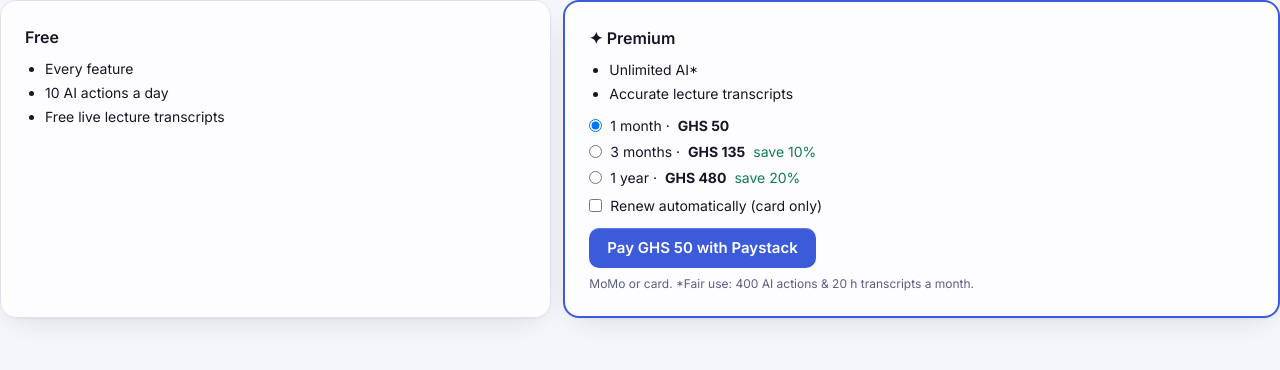
Test: PlanPicker › explains a checkout that could not start
This screenshot has width=1280, height=370.
What coordinates should you click on to do the following:
click the button "Pay GHS 50 with Paystack"
I would click on:
 (702, 248)
Its box is 589,228 -> 816,268.
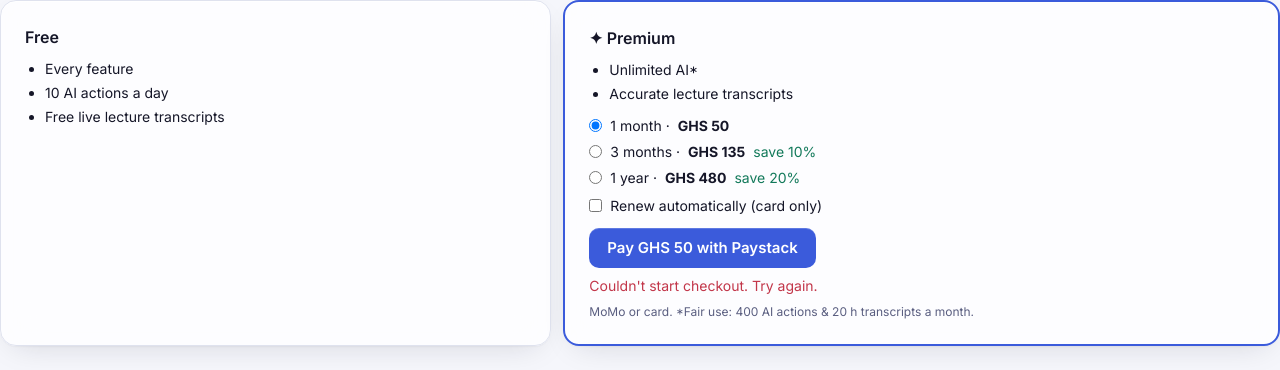
Expected: the message reads "Couldn't start checkout. Try again.", 589,277 -> 818,294
